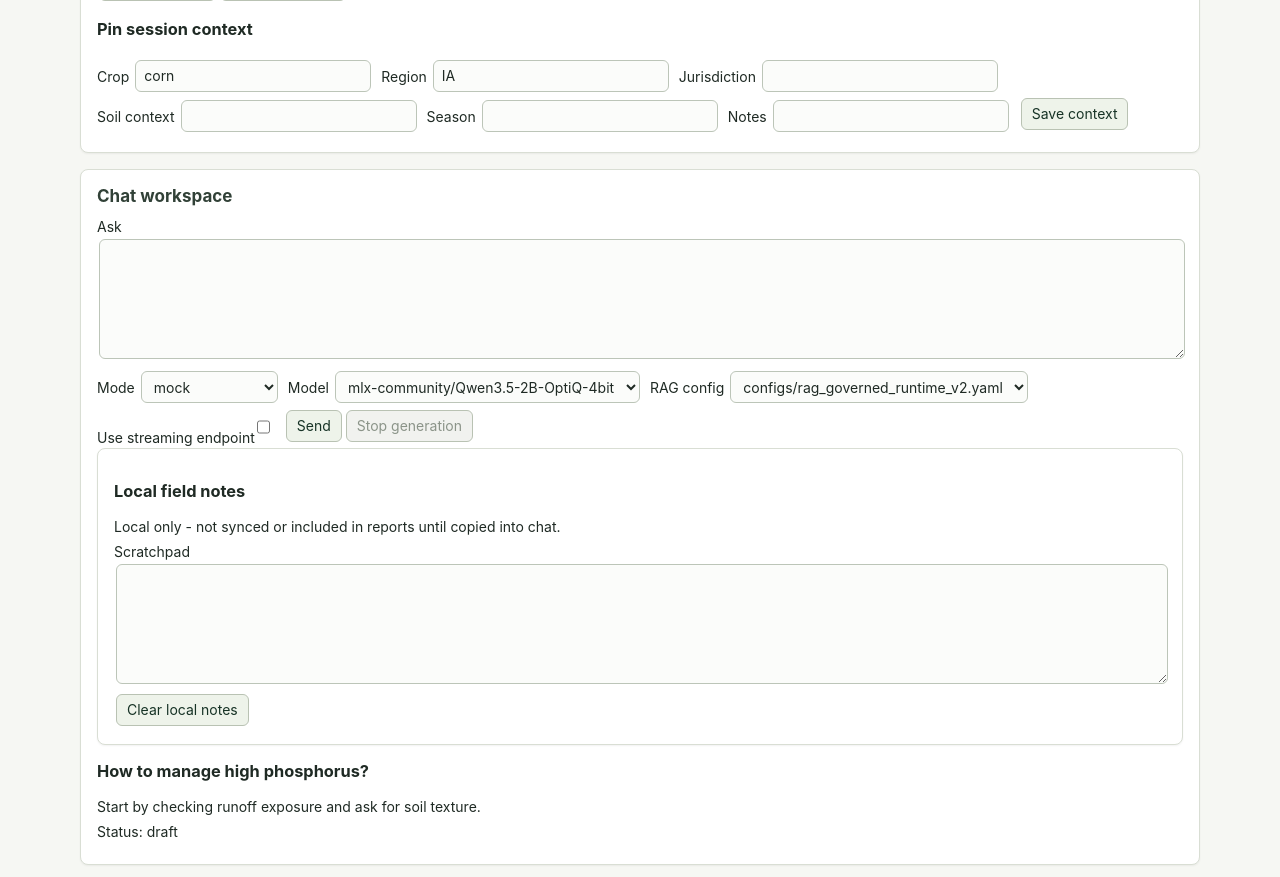
it: cockpit app › cancels an in-flight streaming answer without recording a partial turn
The image size is (1280, 877).
(page scrolled)
Click the checkbox with test id "streaming-enabled". click: (263, 427)
box: x1=257 y1=411 x2=270 y2=443
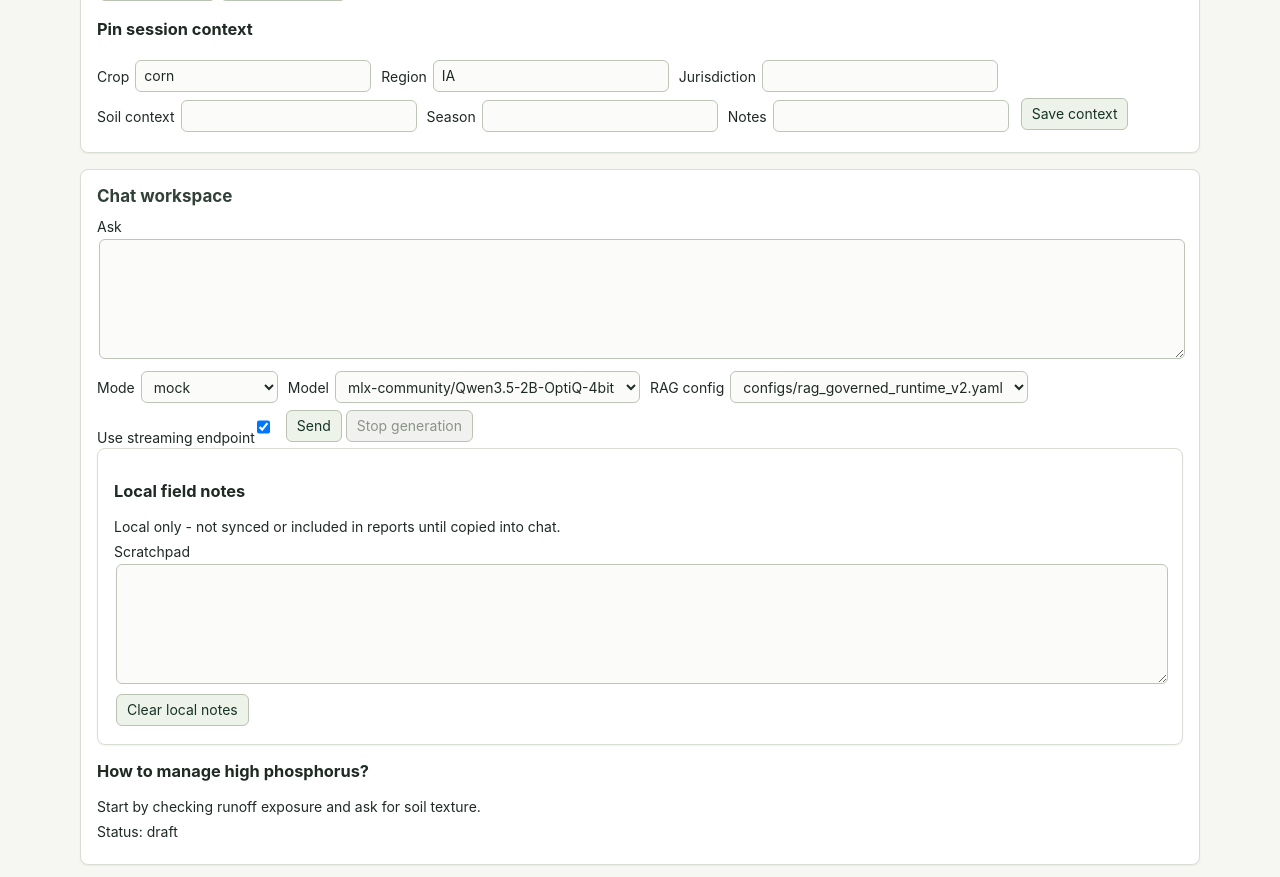
Type "How to check runoff risk?" into the text box with test id "chat-input". click: (642, 299)
box: x1=99 y1=239 x2=1185 y2=359
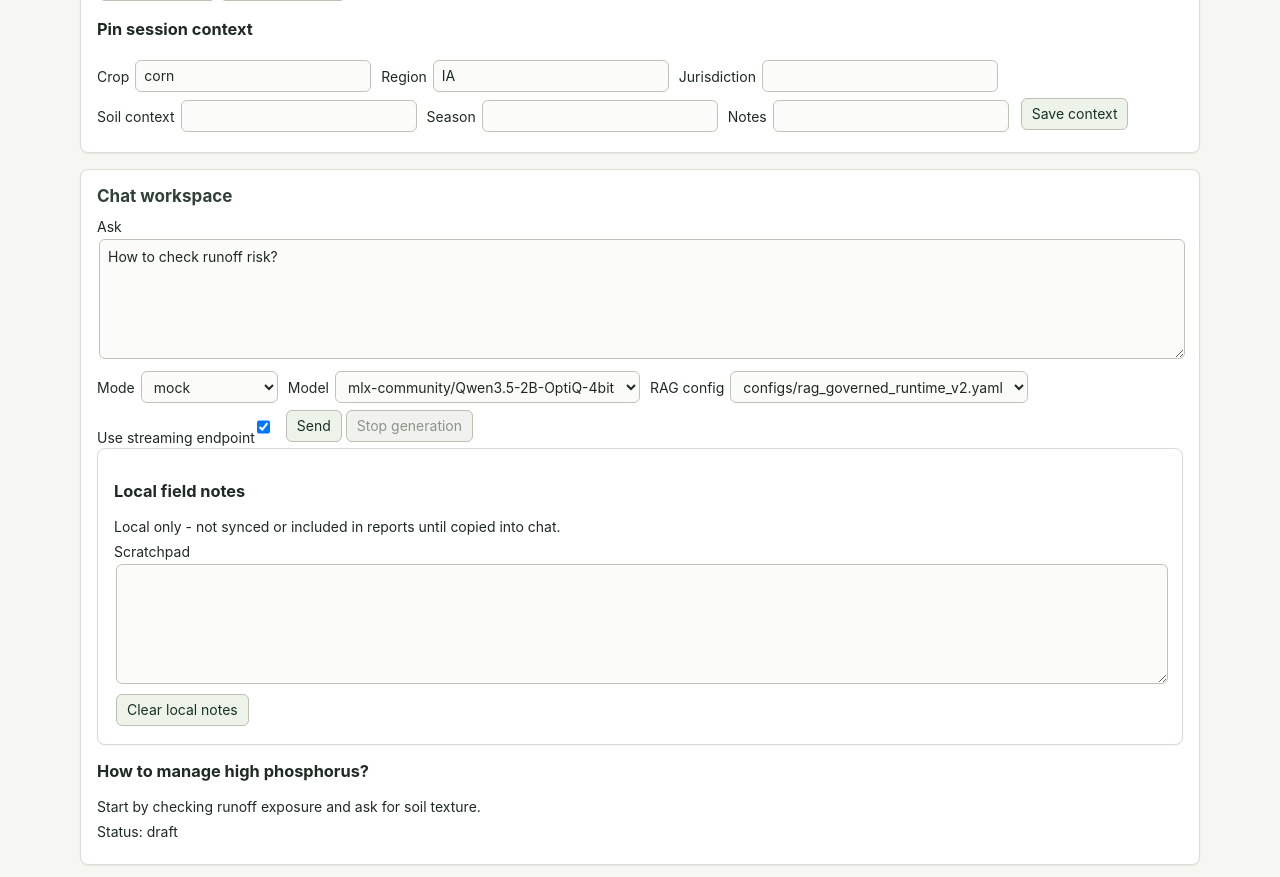
Click the button with test id "send-turn". click: (314, 426)
box: x1=286 y1=410 x2=342 y2=442
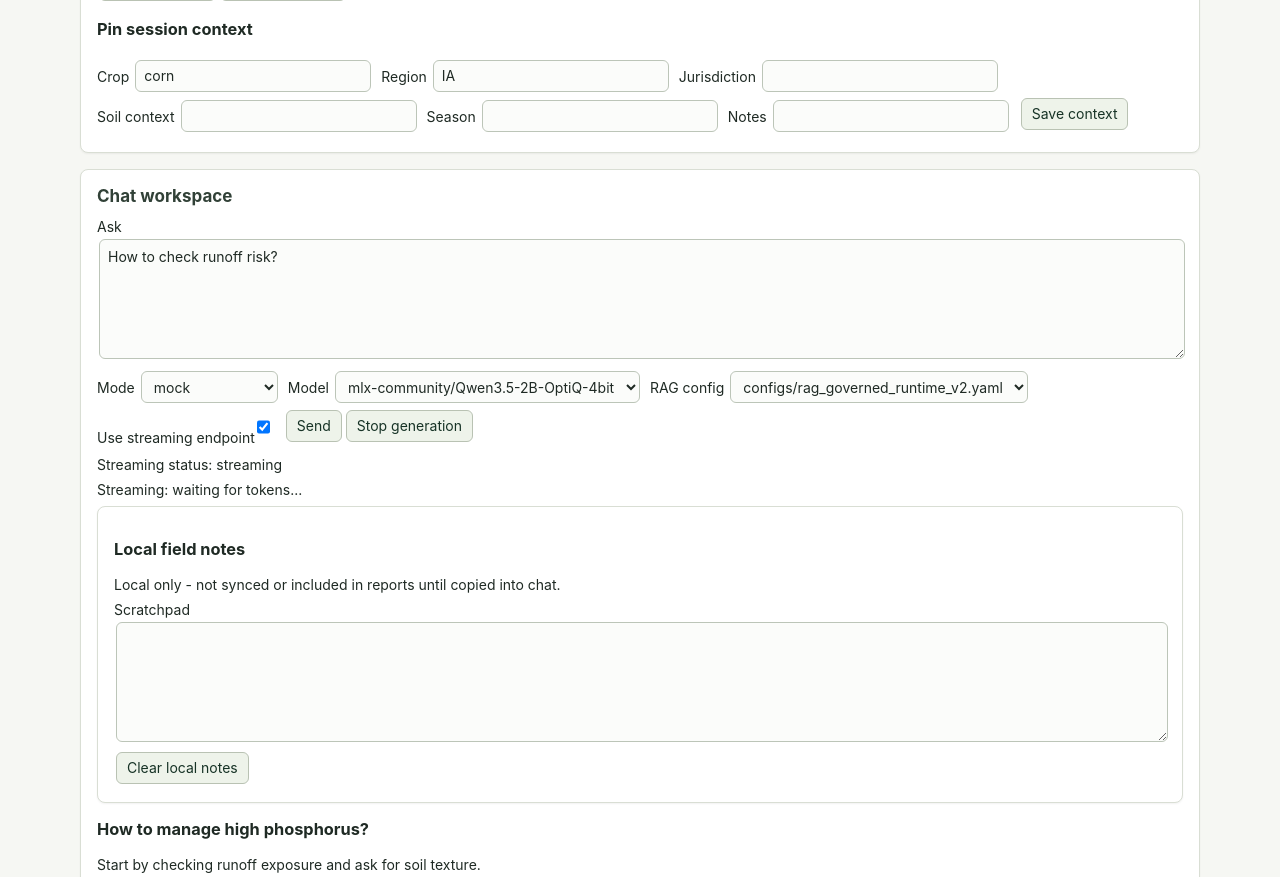
Check: the button with test id "cancel-streaming" is enabled
Check: the text with test id "streaming-status" shows "Streaming", box x1=216 y1=456 x2=282 y2=473
Click the button with test id "cancel-streaming". click: (409, 426)
box: x1=346 y1=410 x2=473 y2=442
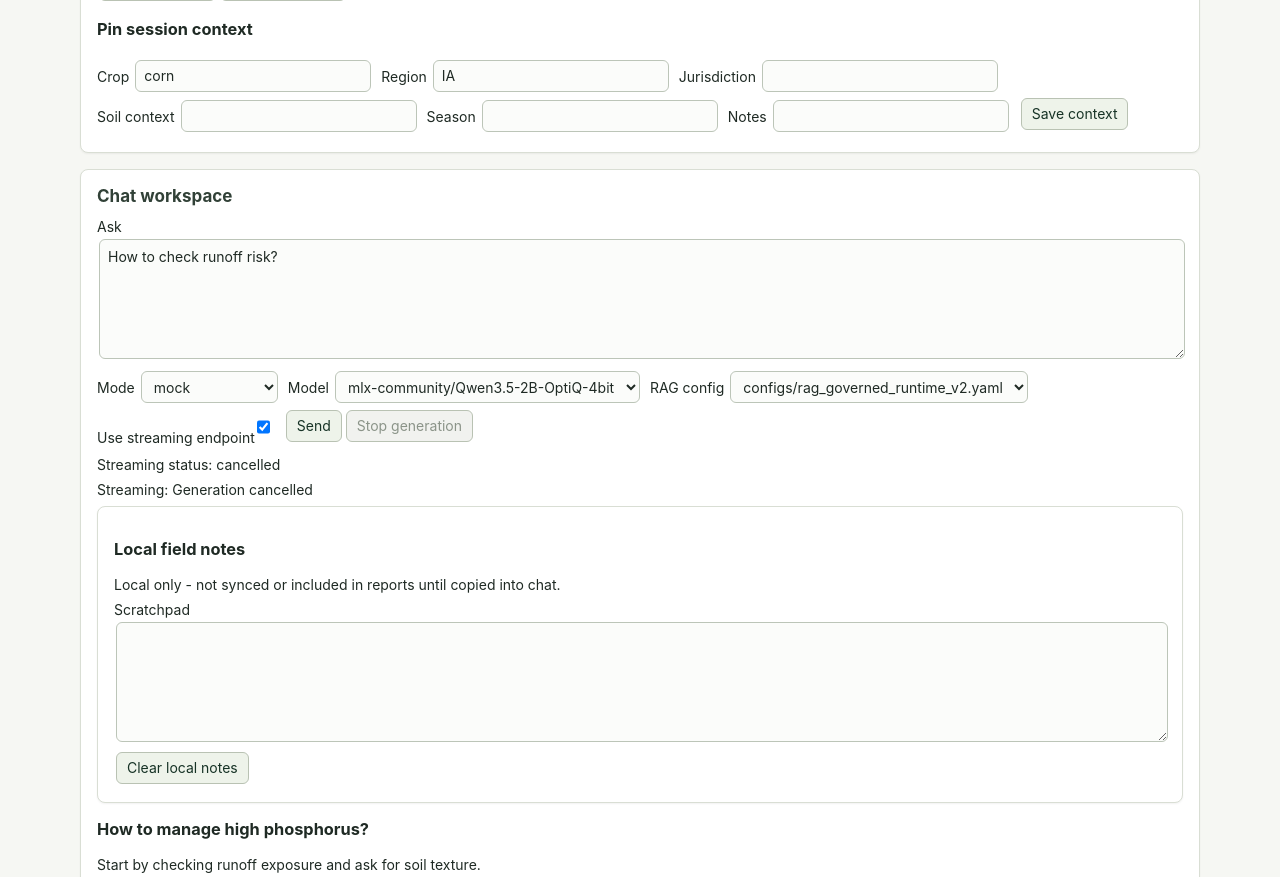
Check: the text with test id "streaming-status" shows "cancelled", box x1=216 y1=456 x2=280 y2=473
Check: the text with test id "streaming-answer" shows "Generation cancelled", box x1=172 y1=481 x2=313 y2=498
